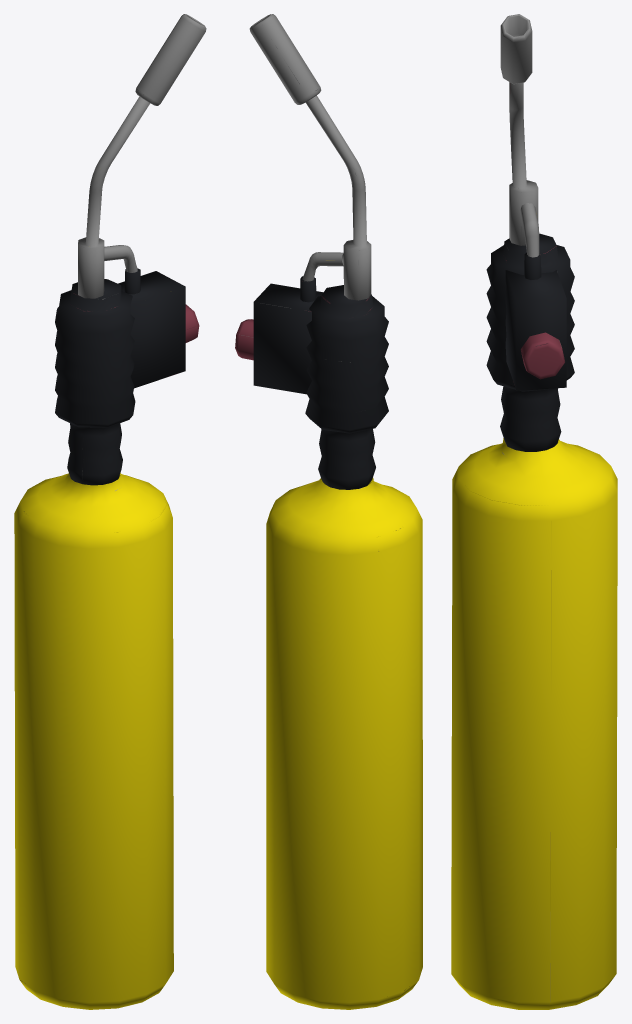
File: blowtorch.fbx
3 renders of one model, left to right at view 1: azimuth 30°, elevation 25°; view 2: azimuth 150°, elevation 25°; view 3: azimuth 270°, elevation 25°, orthographic. The views are drawn at different scales.
Parts seen in each view (by area): view 1: Cylinder; view 2: Cylinder; view 3: Cylinder.
Part boxes in pixels (x1,y1,x2,y2): Cylinder: (14, 14, 206, 1009); Cylinder: (235, 14, 422, 1009); Cylinder: (451, 14, 617, 1009).
Size of the model in its own units: 9.39 by 50.17 by 7.52.
1 material, 1 textured.
